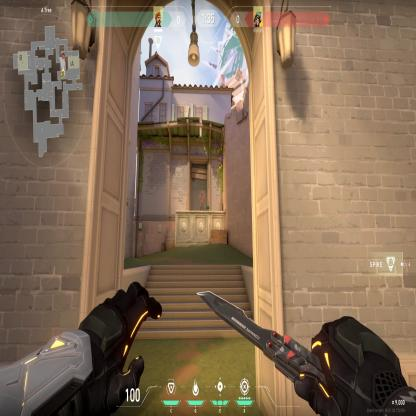enemy: (198, 190, 204, 211)
